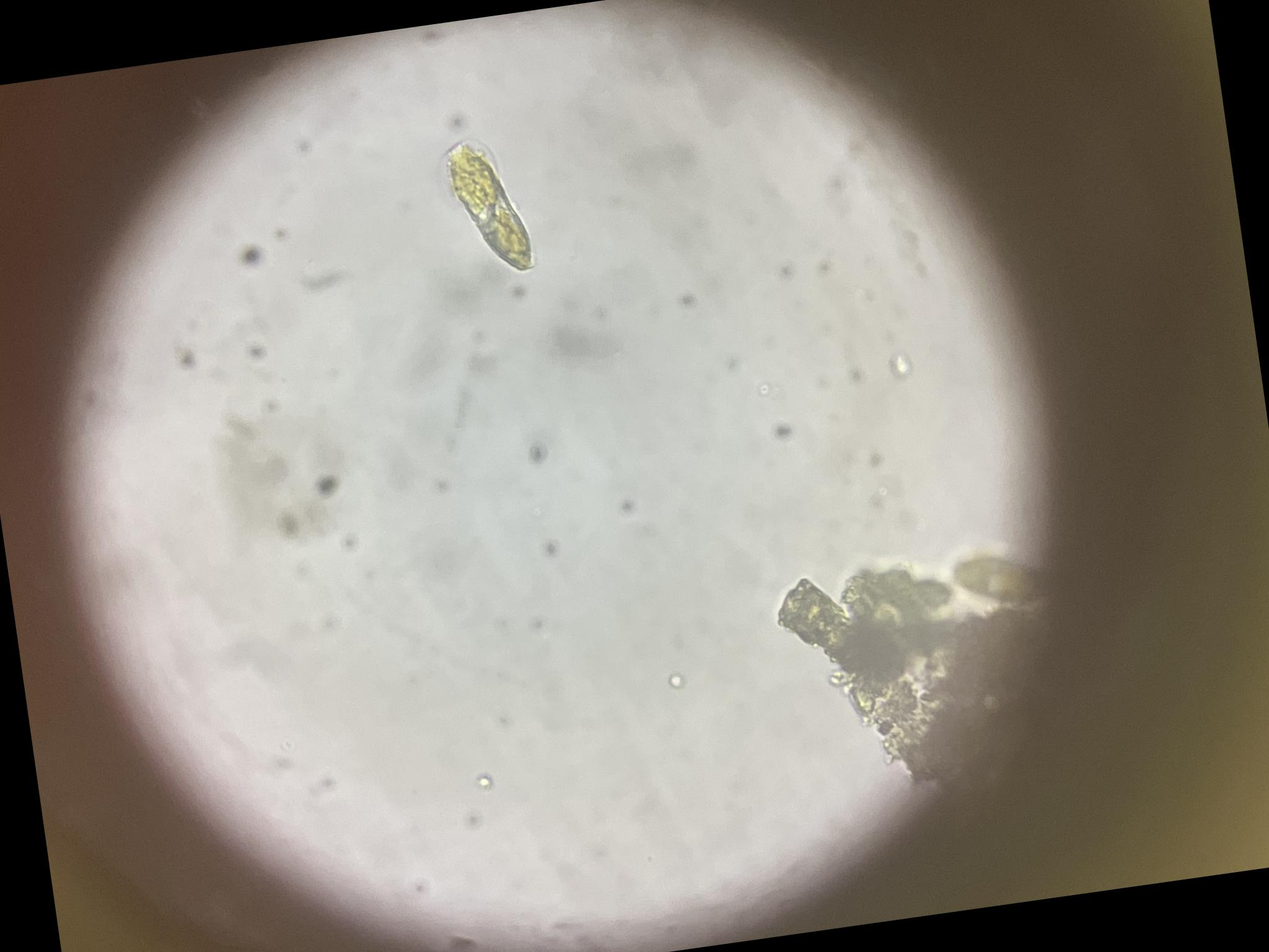Euglena: (941, 74, 1133, 214)
